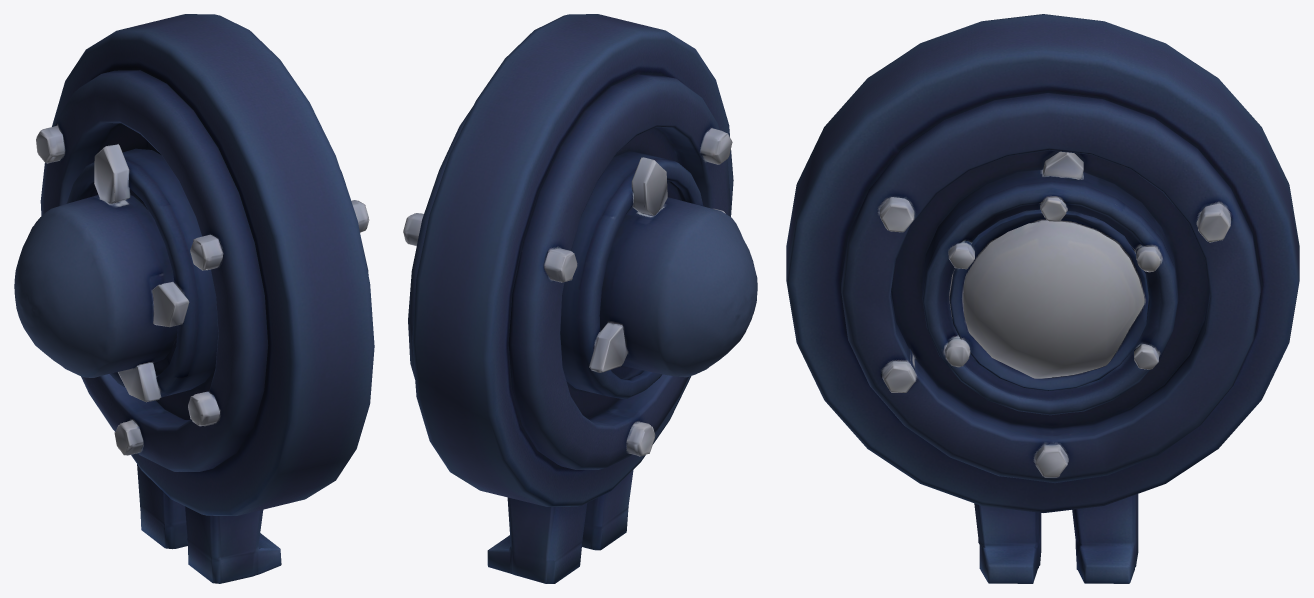
The model's file is pal_08.glb.
The picture shows the model from 3 angles, left to right: view 1: azimuth 30°, elevation 25°; view 2: azimuth 150°, elevation 25°; view 3: azimuth 270°, elevation 25°; orthographic projection. The views are drawn at different scales.
Parts seen in each view (by area): view 1: tripo_node_26a1f961-b270-4216-9cf2-10c4cde7fbfa; view 2: tripo_node_26a1f961-b270-4216-9cf2-10c4cde7fbfa; view 3: tripo_node_26a1f961-b270-4216-9cf2-10c4cde7fbfa.
Boxes of the visible parts, x1,y1,x2,y2 form: tripo_node_26a1f961-b270-4216-9cf2-10c4cde7fbfa: (14,14,374,583); tripo_node_26a1f961-b270-4216-9cf2-10c4cde7fbfa: (403,14,757,583); tripo_node_26a1f961-b270-4216-9cf2-10c4cde7fbfa: (786,14,1299,583).
Bounding box in the file's own units: 0.5879 × 0.998 × 0.877.
1 material, 1 textured.
